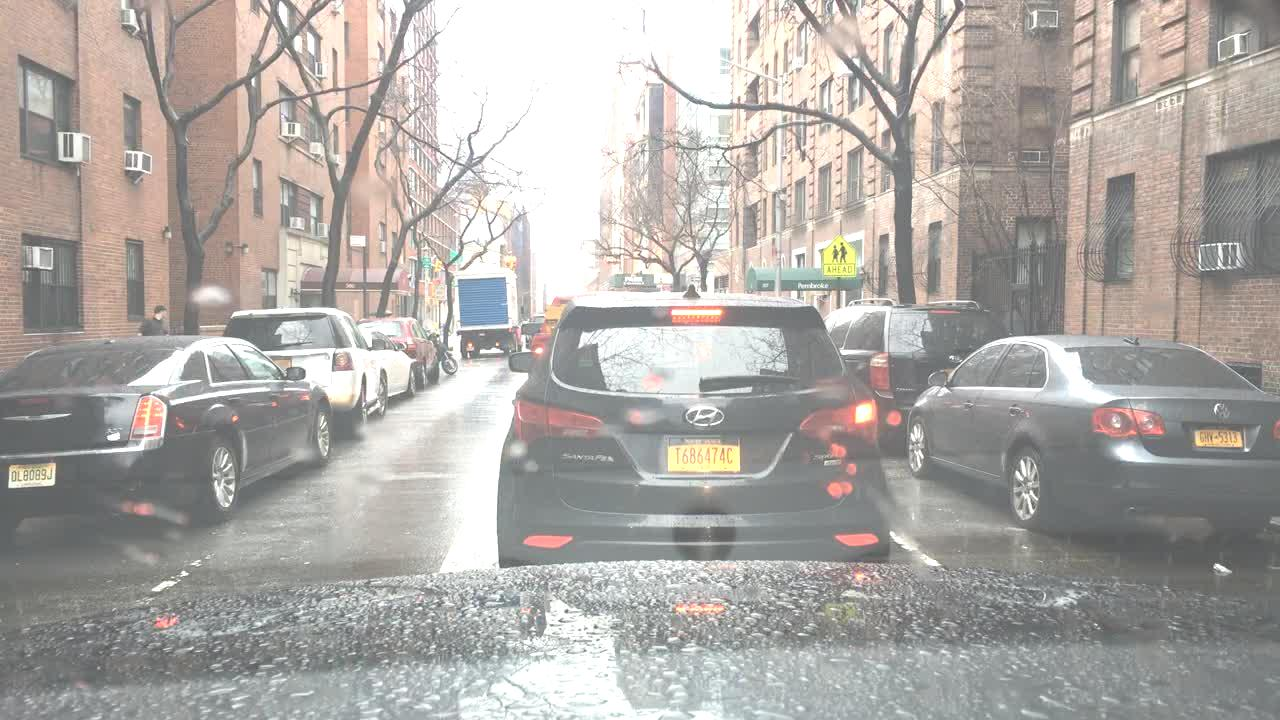Hyundai: (680, 402, 734, 429)
Volkswagen: (1212, 398, 1232, 423)
